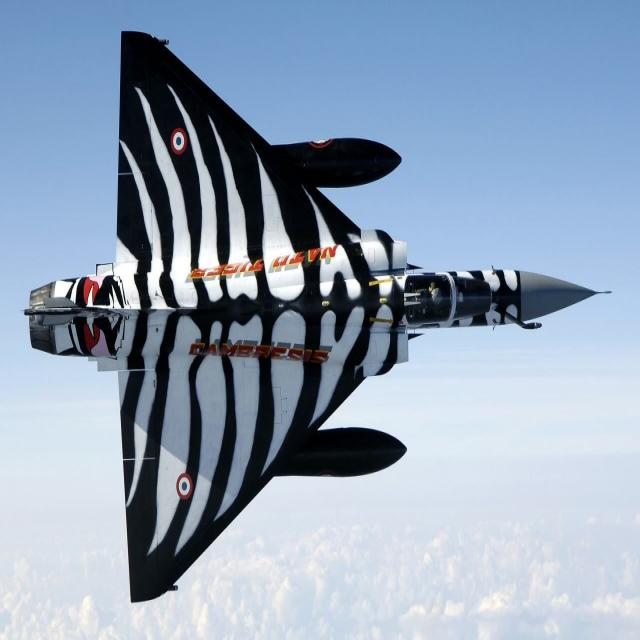MIL_Plane: (19, 30, 613, 604)
